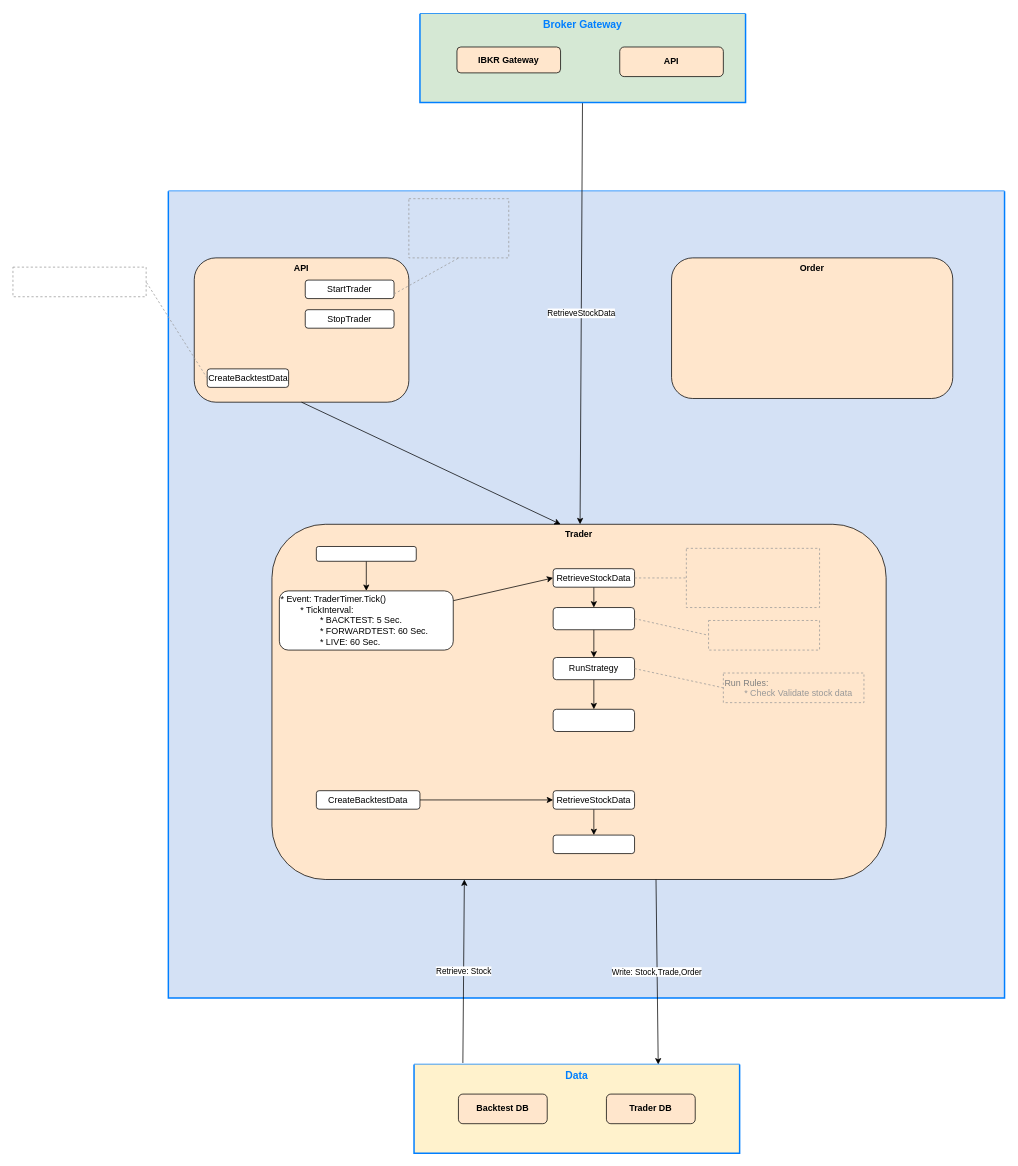
This 1018x1166 diagram has some shape labels left out. The box of each missing label's shape, as (x1, y1, x2, y2) in pixels:
Bot Instance: (167, 190, 1005, 998)
CreateOrder: (552, 709, 635, 731)
Data Sources: * BACKTEST: BacktestDb * FORWARDTEST: Broker * LIVE: Broker: (686, 548, 820, 608)
Data Sources: * Broker: (12, 266, 146, 297)
Modes: * BACKTEST * FORWARDTEST * LIVE: (408, 198, 509, 258)
PersistStockData: (552, 834, 635, 854)
Start Trader: (316, 546, 416, 561)
Validate: * Stock data: (708, 620, 820, 650)
ValidateTrade: (552, 607, 635, 630)
